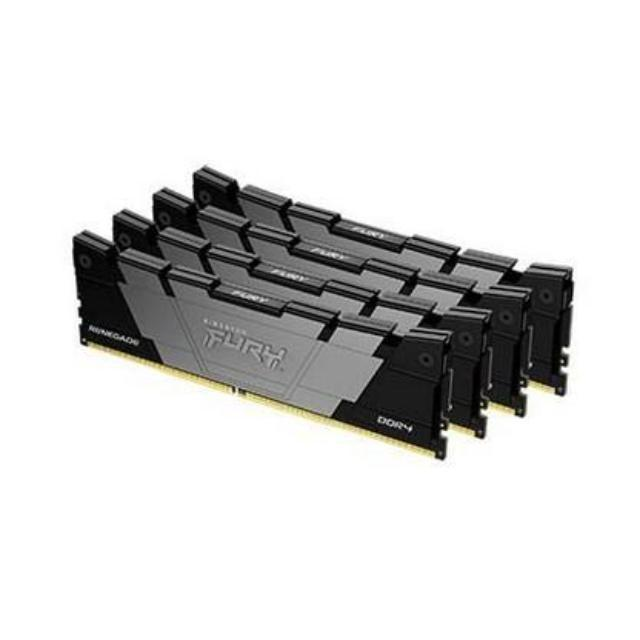RAM: (65, 149, 577, 471)
